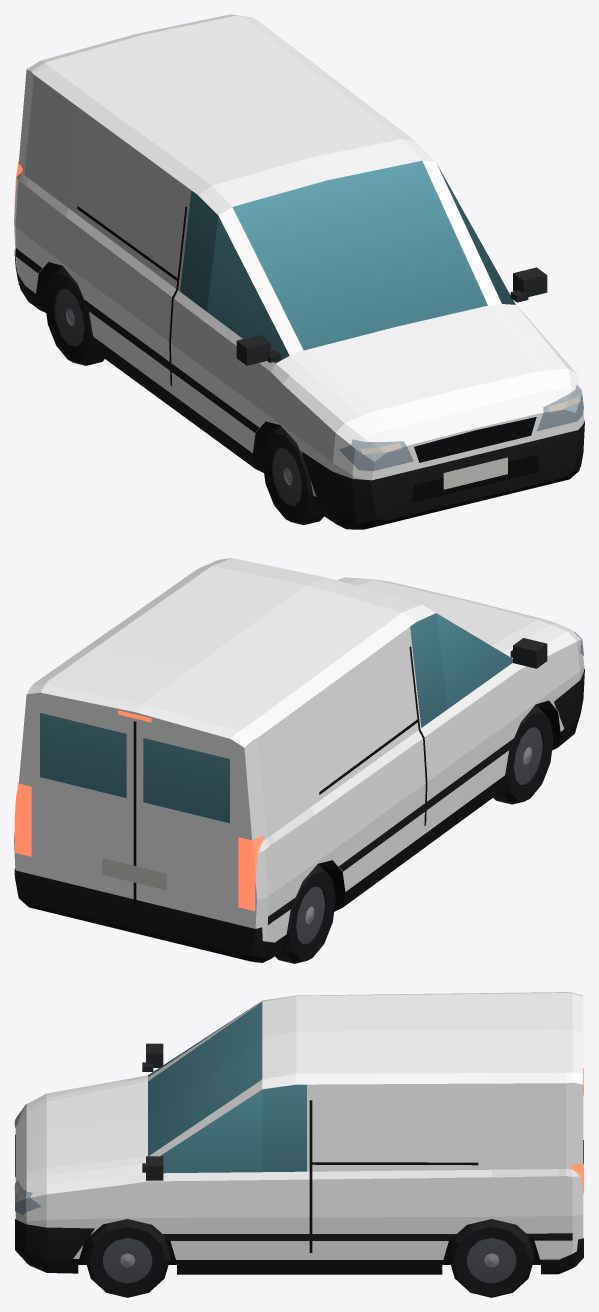
Rendered from Kangoo.fbx.
3 views of the same model, one above another, from view 1: azimuth 30°, elevation 25°; view 2: azimuth 150°, elevation 25°; view 3: azimuth 270°, elevation 25° (orthographic). The views are drawn at different scales.
Parts seen in each view (by area): view 1: body, wheel-front-right, wheel-back-right; view 2: body, wheel-back-right, wheel-front-right; view 3: body, wheel-front-left, wheel-back-left.
Boxes of the visible parts, box(x1,y1,x2,y2) form: body: box(14, 14, 584, 529); wheel-front-right: box(262, 426, 323, 525); wheel-back-right: box(44, 266, 104, 365); body: box(14, 558, 584, 962); wheel-back-right: box(275, 864, 335, 963); wheel-front-right: box(493, 705, 553, 804); body: box(14, 992, 583, 1274); wheel-front-left: box(85, 1219, 170, 1297); wheel-back-left: box(449, 1219, 534, 1297).
Size of the model in its own units: 2.15 by 1.8 by 4.24.
4 materials, 1 textured.
